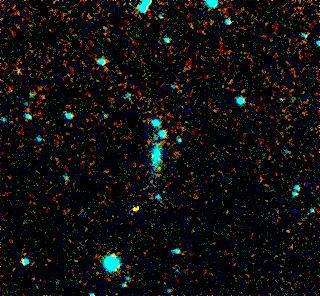star: (122, 195, 152, 225)
